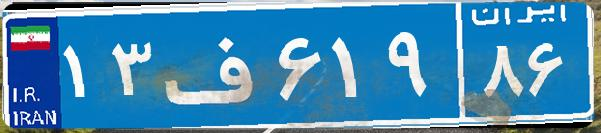1: (330, 28, 385, 110), (57, 26, 110, 107)
3: (110, 28, 158, 105)
6: (273, 28, 330, 110), (525, 38, 570, 115)
8: (475, 38, 525, 113)
9: (385, 28, 445, 110)
ف: (158, 15, 273, 115)
